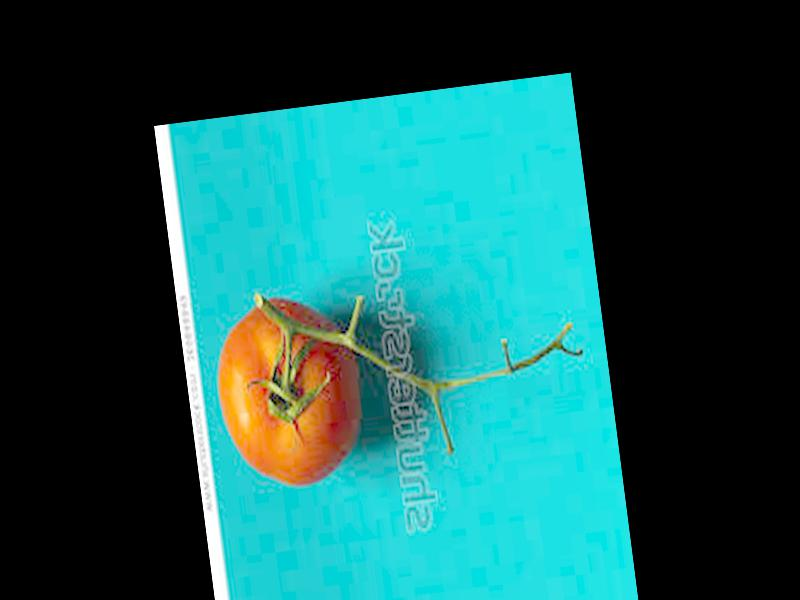Tomato: (210, 287, 367, 493)
